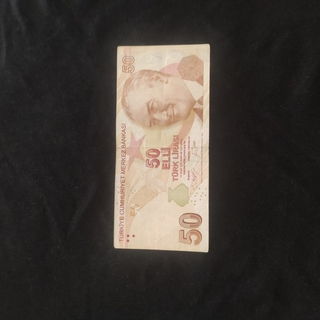50TLFront: (113, 43, 210, 253)
